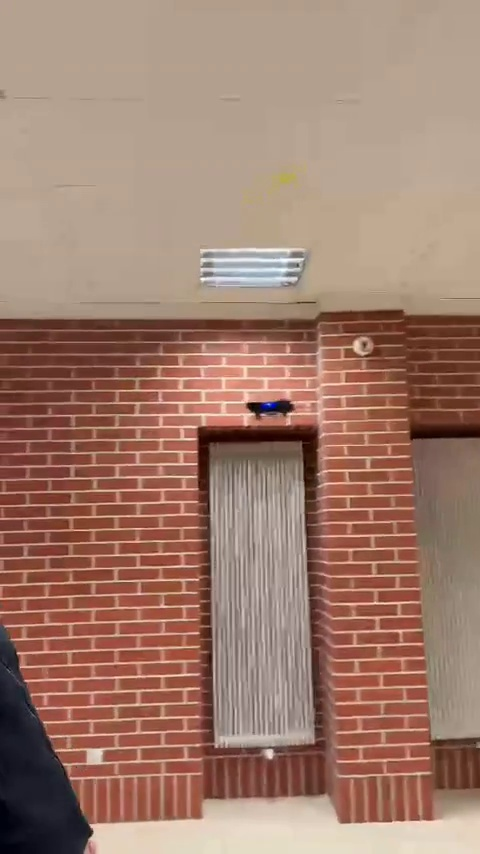drone: (246, 396, 297, 421)
